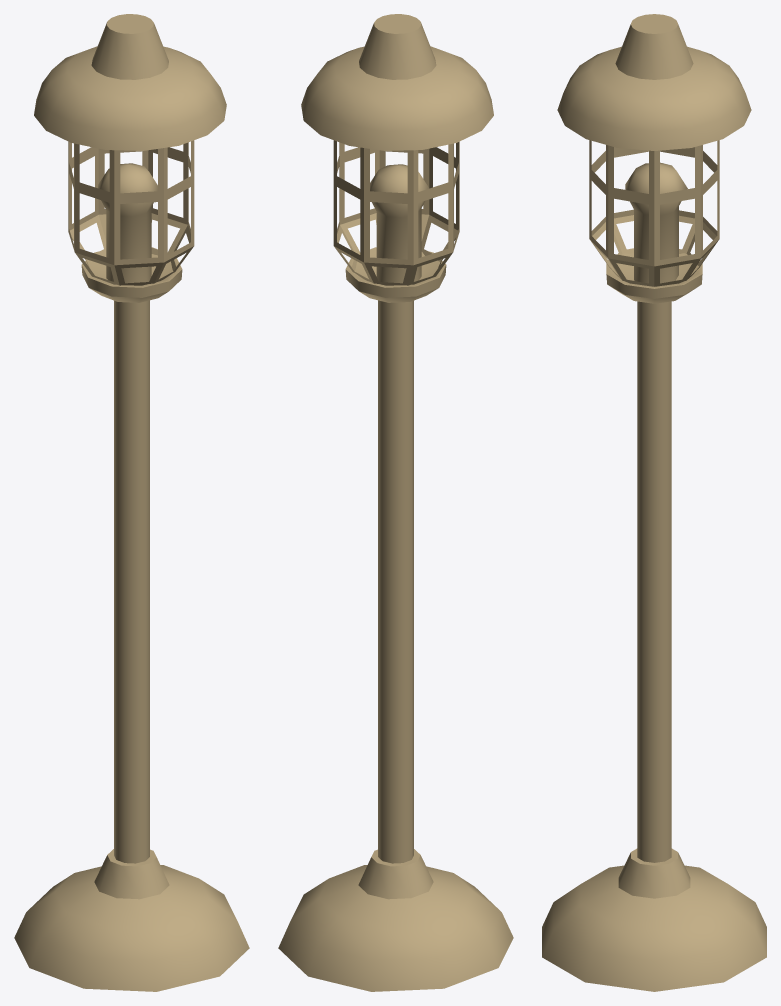
File: lamp-02.fbx
3 renders of one model, left to right at view 1: azimuth 30°, elevation 25°; view 2: azimuth 150°, elevation 25°; view 3: azimuth 270°, elevation 25°, orthographic.
Parts seen in each view (by area): view 1: lamp-02; view 2: lamp-02; view 3: lamp-02.
Boxes of the visible parts, <box> form: lamp-02: <box>14,14,249,991</box>; lamp-02: <box>278,14,513,991</box>; lamp-02: <box>542,14,766,991</box>.
Bounding box in the file's own units: 117 × 501 × 111.
